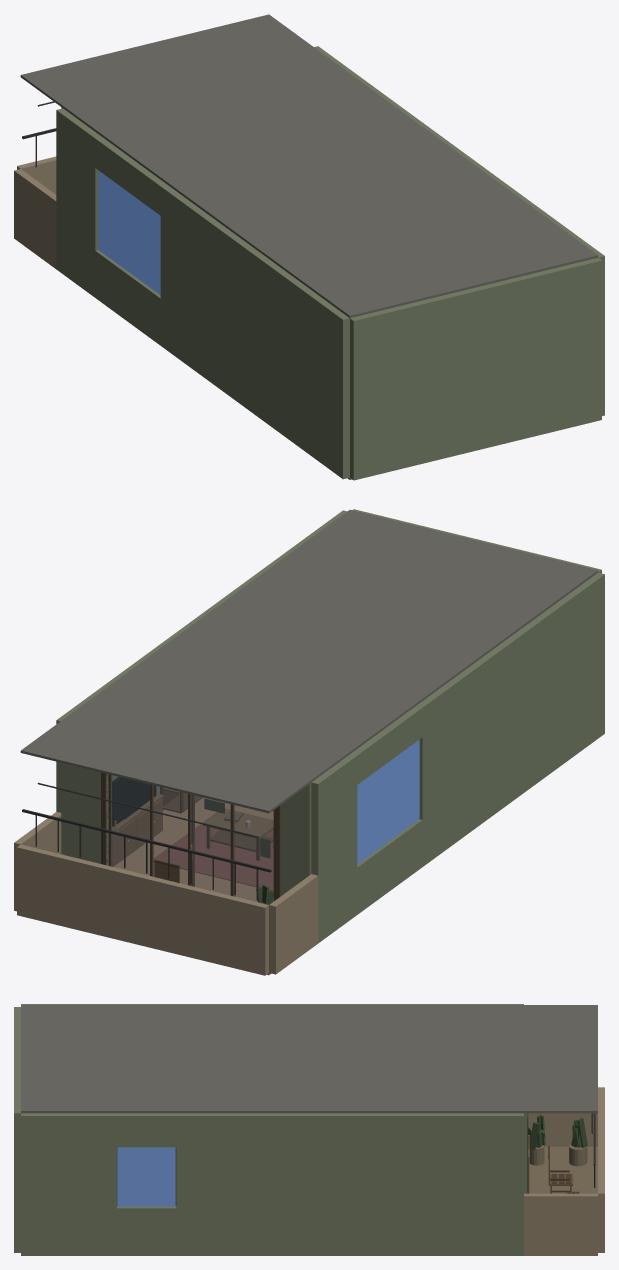
Rendered from Bedroom_NOCTURNE.fbx.
3 renders of one model, top to bottom at view 1: azimuth 30°, elevation 25°; view 2: azimuth 150°, elevation 25°; view 3: azimuth 270°, elevation 25°, orthographic. The views are drawn at different scales.
Visible parts, largest first — view 1: RM_Wall_S, RM_Ceil_Bed, RM_Ceil_Liv, RM_Wall_W_Bed, RM_Ceil_Bal, RM_Wall_W_Liv_b, RM_Wall_W_Liv_a, RM_LivWin_Glow, RM_Wall_W_Liv_c, RM_Wall_BalW, RM_Wall_W_Liv_d, RM_Wall_BalN (+2 smaller); view 2: RM_Ceil_Bed, RM_Ceil_Liv, RM_Wall_W_Bed, RM_Wall_BalN, RM_Ceil_Bal, RM_Wall_W_Liv_b, PR_SlideGlass_0, PR_SlideGlass_1, RM_Wall_W_Liv_a, RM_LivWin_Glow, RM_Wall_Bal_b, RM_Wall_BalW (+14 smaller); view 3: RM_Wall_E_Liv, RM_Ceil_Bed, RM_Ceil_Liv, RM_Wall_E_Bed_b, RM_Wall_E_Bed_a, RM_Ceil_Bal, RM_Wall_BalE, RM_Window_Glow, RM_Wall_E_Bed_c, RM_Floor_Bal, RM_Wall_E_Bed_d, RM_Wall_S (+3 smaller).
Part boxes in pixels (x1,y1,x2,y2): RM_Wall_S: [350, 258, 601, 480]; RM_Ceil_Bed: [200, 145, 598, 317]; RM_Ceil_Liv: [63, 45, 447, 208]; RM_Wall_W_Bed: [193, 208, 349, 479]; RM_Ceil_Bal: [20, 14, 310, 107]; RM_Wall_W_Liv_b: [56, 108, 101, 297]; RM_Wall_W_Liv_a: [160, 184, 199, 369]; RM_LivWin_Glow: [98, 170, 160, 294]; RM_Wall_W_Liv_c: [95, 250, 160, 345]; RM_Wall_BalW: [14, 169, 56, 268]; RM_Wall_W_Liv_d: [95, 137, 166, 215]; RM_Wall_BalN: [17, 156, 56, 194]; RM_Ceil_Bed: [200, 509, 598, 681]; RM_Ceil_Liv: [63, 619, 448, 782]; RM_Wall_W_Bed: [449, 572, 604, 842]; RM_Wall_BalN: [17, 844, 268, 975]; RM_Ceil_Bal: [20, 719, 311, 813]; RM_Wall_W_Liv_b: [311, 754, 357, 943]; PR_SlideGlass_0: [191, 795, 273, 901]; PR_SlideGlass_1: [111, 775, 187, 884]; RM_Wall_W_Liv_a: [416, 682, 454, 866]; RM_LivWin_Glow: [357, 739, 419, 864]; RM_Wall_Bal_b: [61, 763, 108, 865]; RM_Wall_BalW: [269, 874, 318, 974]; RM_Wall_E_Liv: [283, 1113, 523, 1255]; RM_Ceil_Bed: [21, 1005, 283, 1113]; RM_Ceil_Liv: [283, 1005, 523, 1113]; RM_Wall_E_Bed_b: [176, 1113, 283, 1255]; RM_Wall_E_Bed_a: [21, 1113, 116, 1255]; RM_Ceil_Bal: [524, 1005, 597, 1113]; RM_Wall_BalE: [524, 1193, 597, 1255]; RM_Window_Glow: [117, 1147, 175, 1206]; RM_Wall_E_Bed_c: [117, 1206, 176, 1255]; RM_Floor_Bal: [528, 1146, 597, 1193]; RM_Wall_E_Bed_d: [117, 1113, 176, 1147]; RM_Wall_S: [14, 1007, 20, 1252].
Bounding box in the file's own units: 464 × 278 × 1034.
